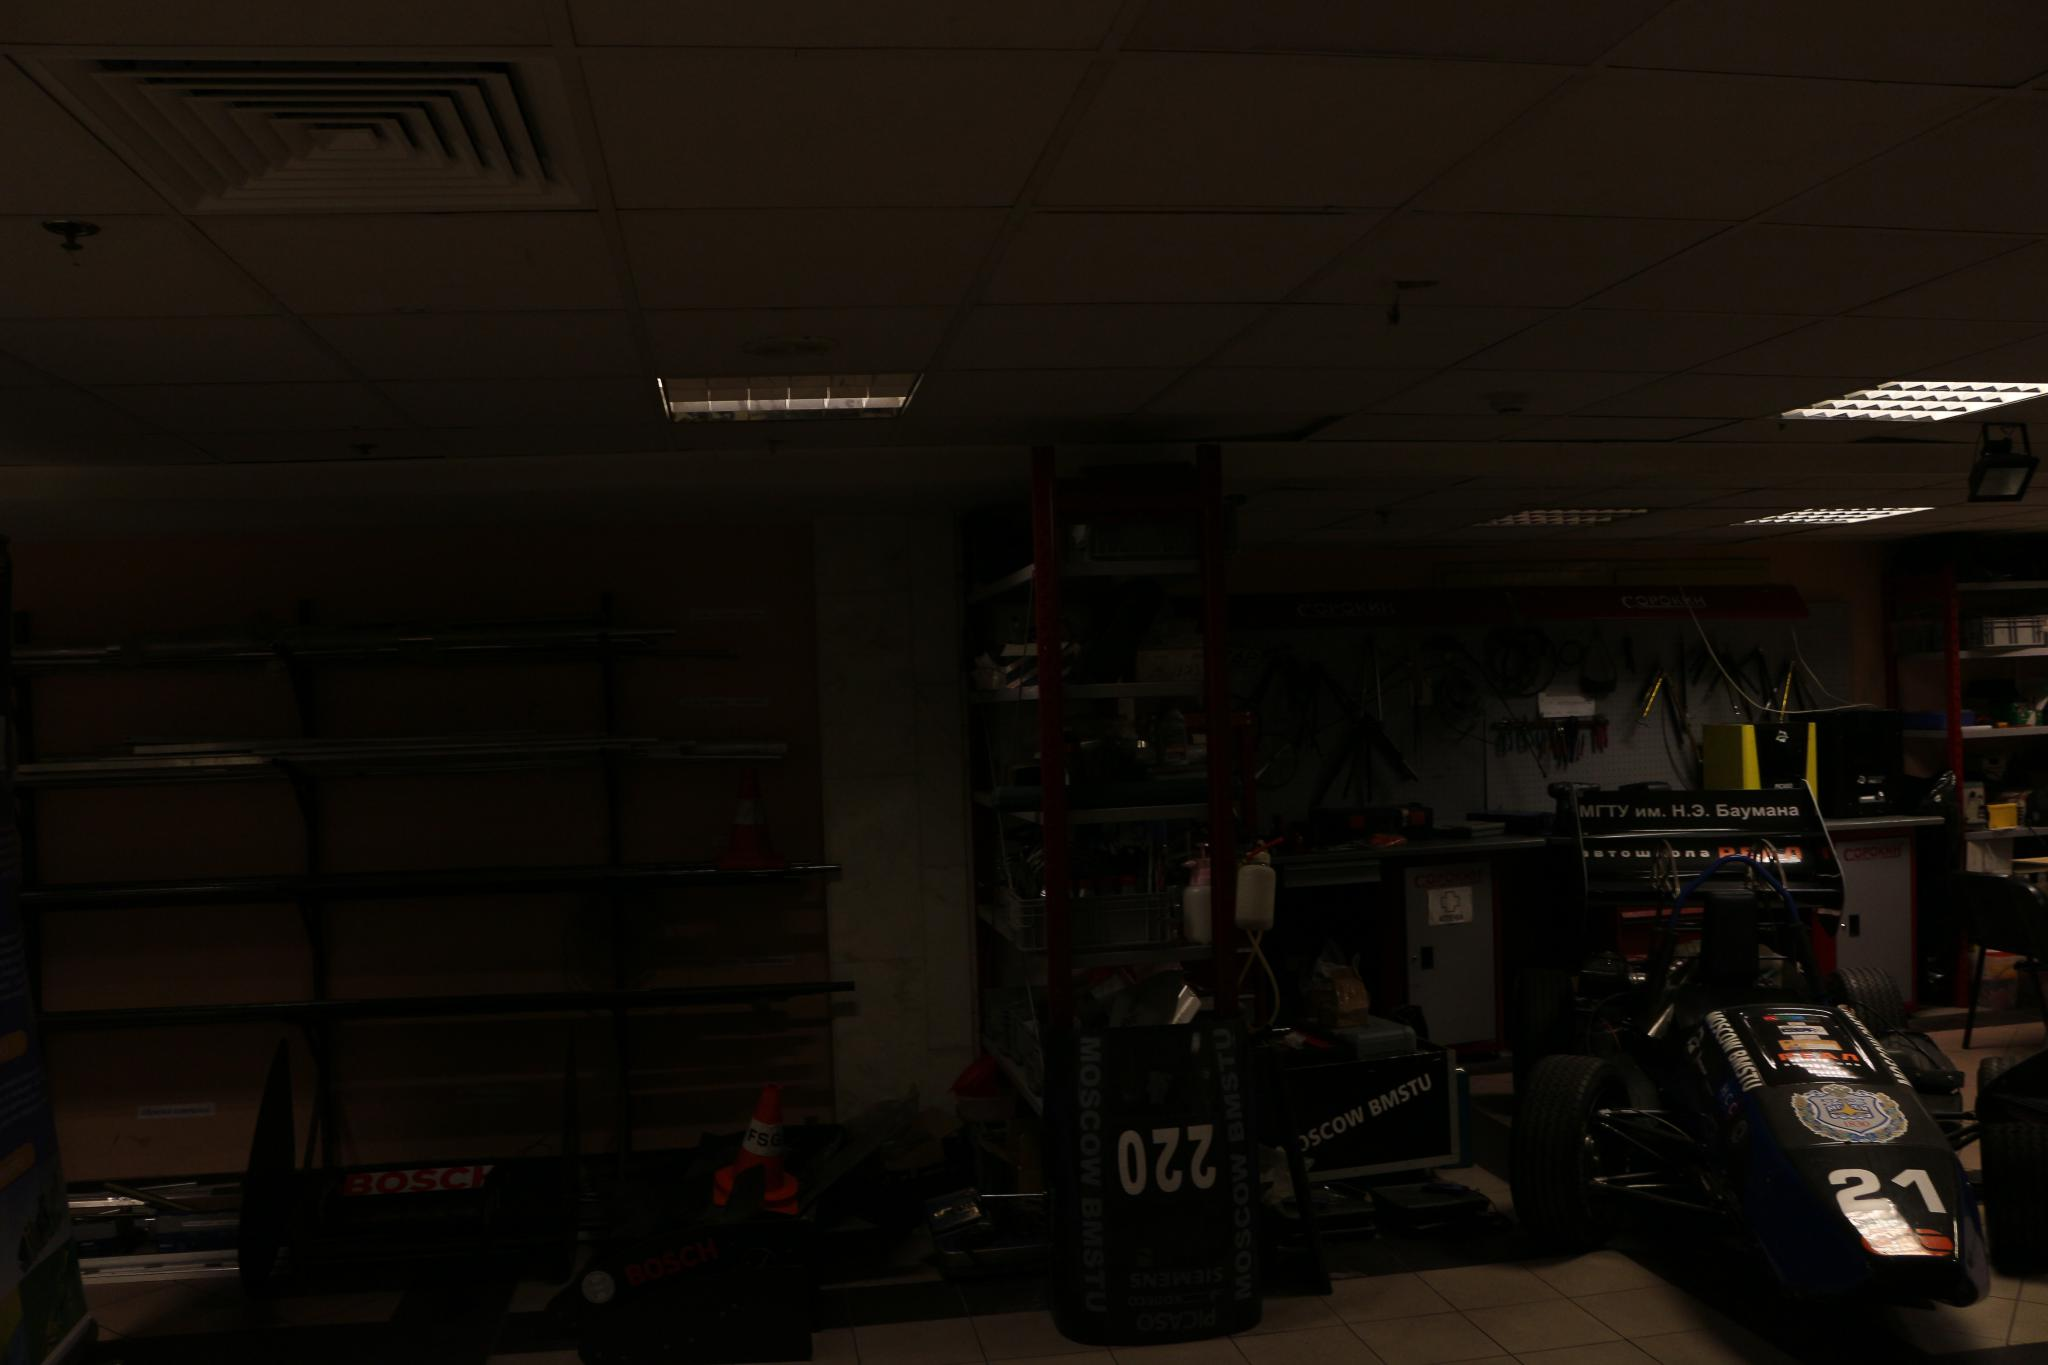Orange_Cone: (713, 1077, 799, 1208), (708, 782, 787, 871)
